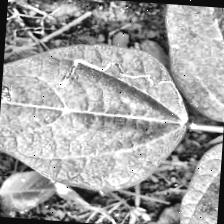ALS: (0, 38, 191, 200)
